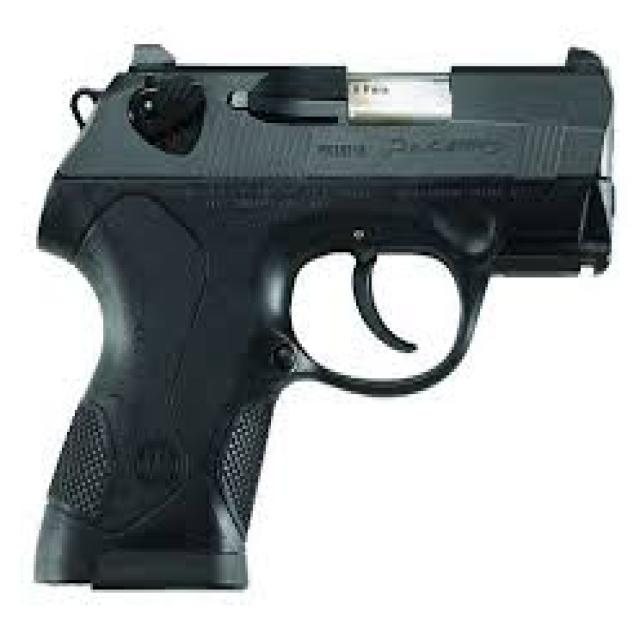pistol: (29, 39, 631, 602)
